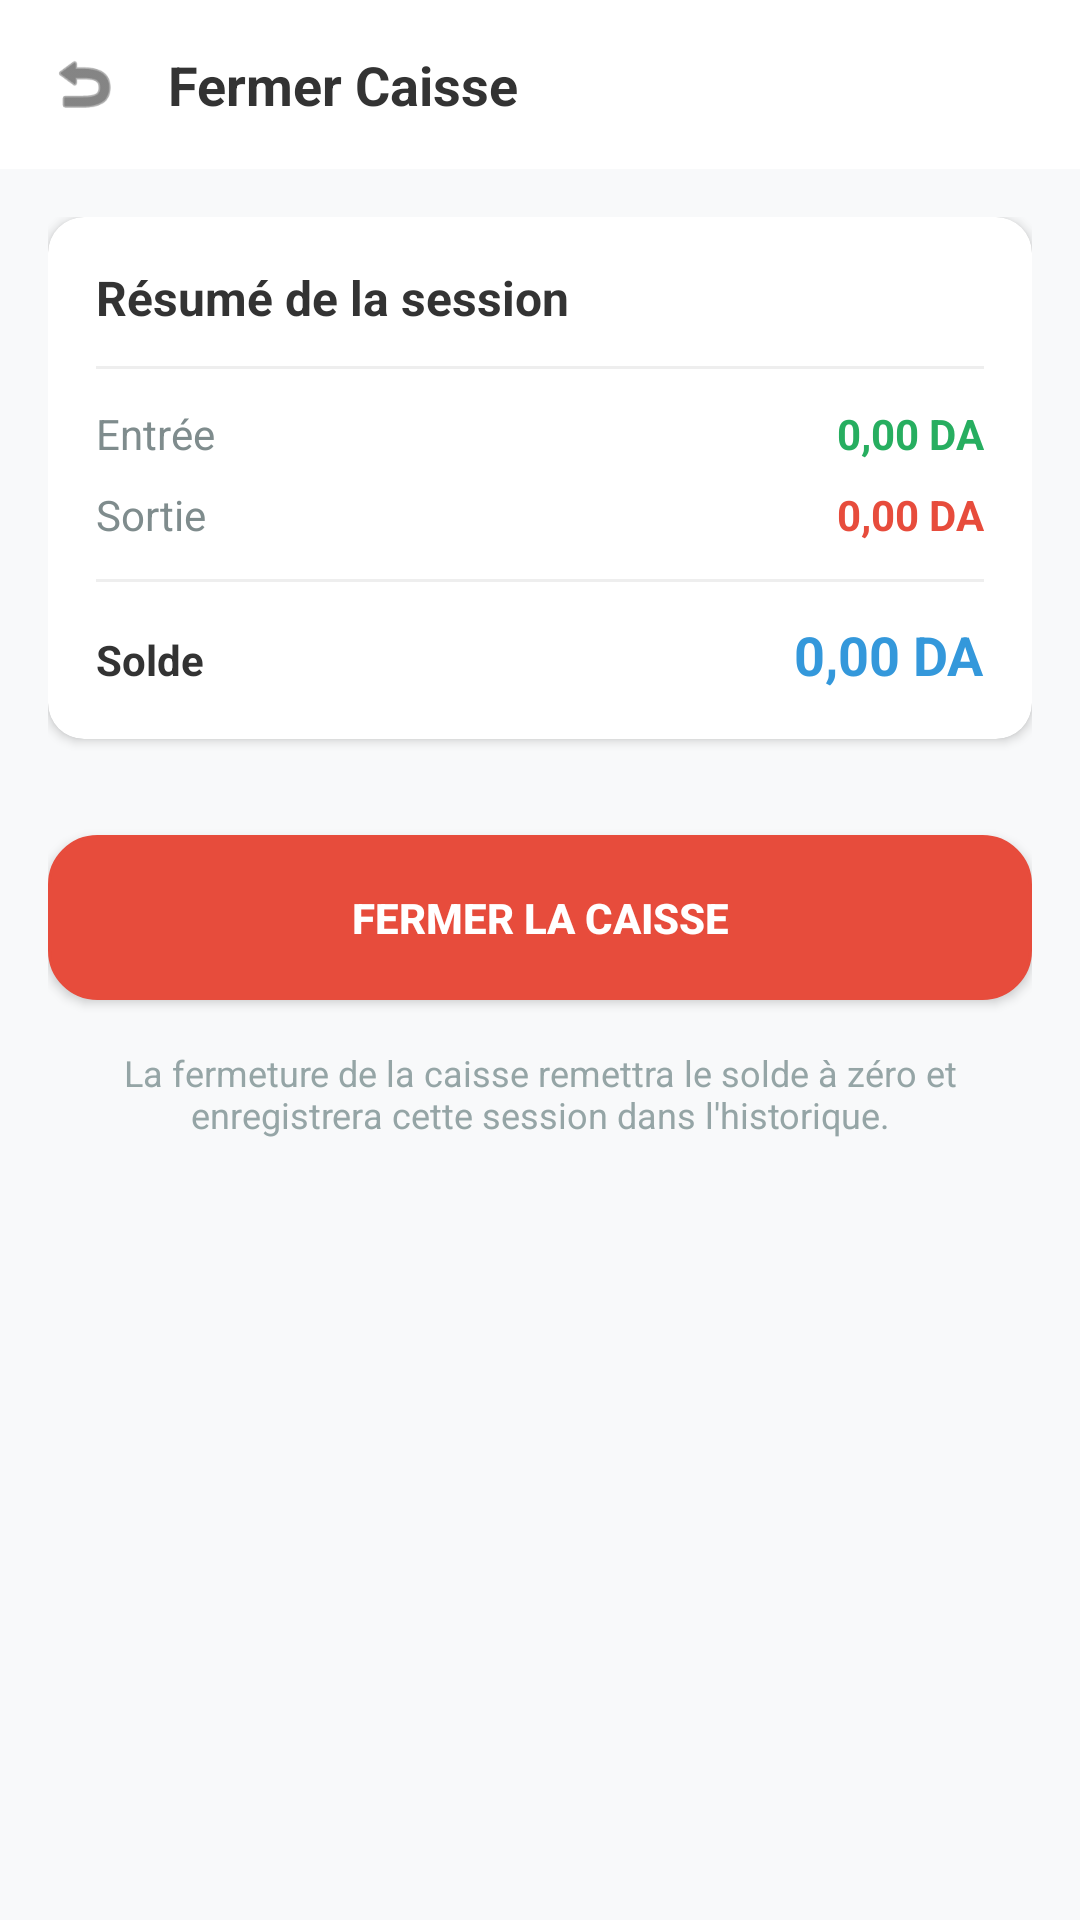

Icons on this 1080px×1920px Android screen, each with the point to tap as (x,y):
revert: (85,84)
